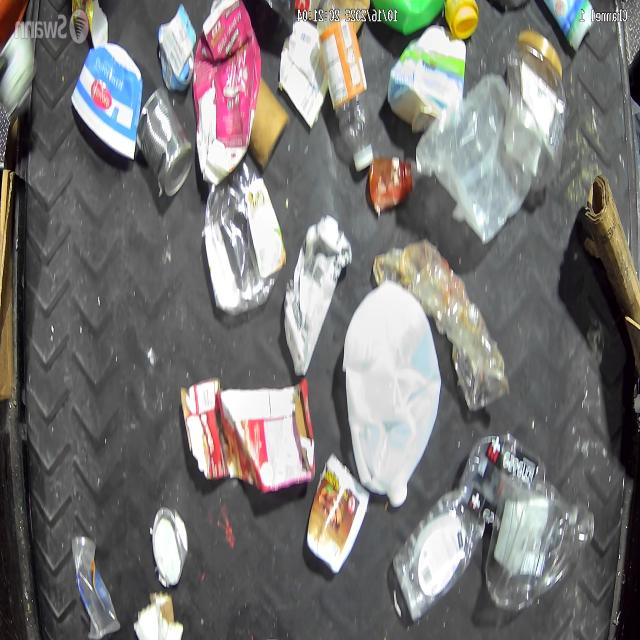can: (136, 84, 194, 197), (150, 506, 190, 586)
milk_jug: (341, 279, 441, 510)
non_white_jug: (483, 482, 595, 614), (194, 0, 262, 186), (204, 160, 284, 313)
plastic_bottle: (316, 8, 373, 170)
